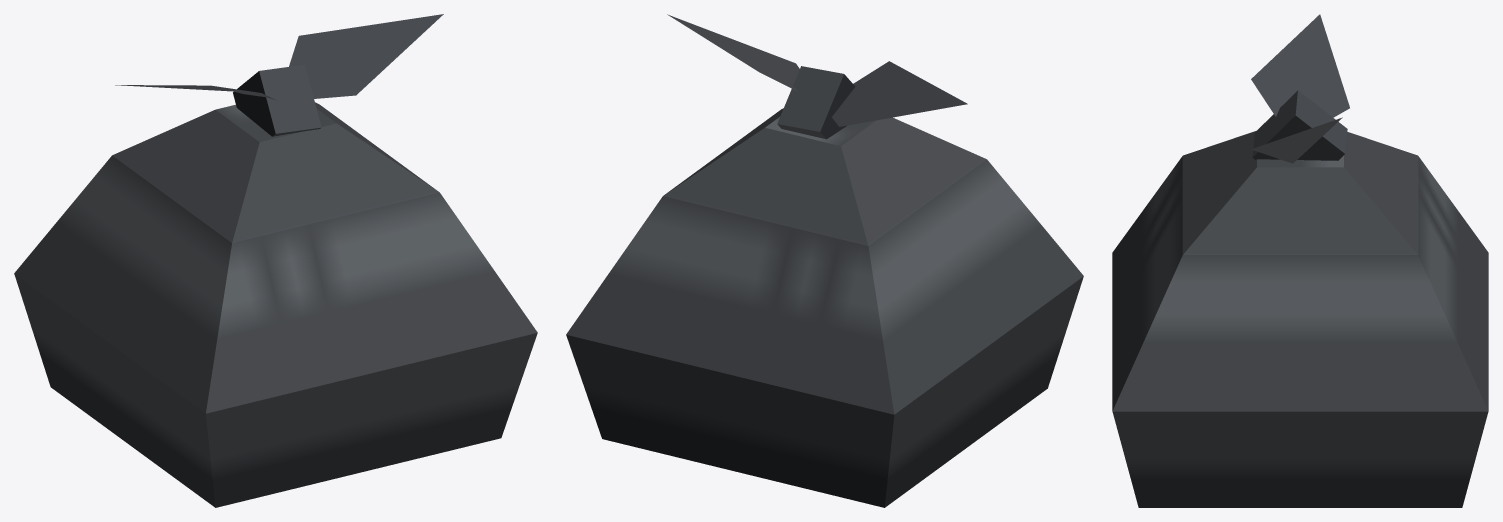
Rendered from Garbage_Bag.obj.
3 views of the same model, side by side, from view 1: azimuth 30°, elevation 25°; view 2: azimuth 150°, elevation 25°; view 3: azimuth 270°, elevation 25° (orthographic).
Visible parts, largest first — view 1: Garbage_Bag.001; view 2: Garbage_Bag.001; view 3: Garbage_Bag.001.
Boxes of the visible parts, bbox=[...] form: Garbage_Bag.001: bbox=[14, 14, 537, 507]; Garbage_Bag.001: bbox=[566, 14, 1083, 507]; Garbage_Bag.001: bbox=[1112, 14, 1488, 507].
Bounding box in the file's own units: 0.792 × 0.8238 × 0.792.
